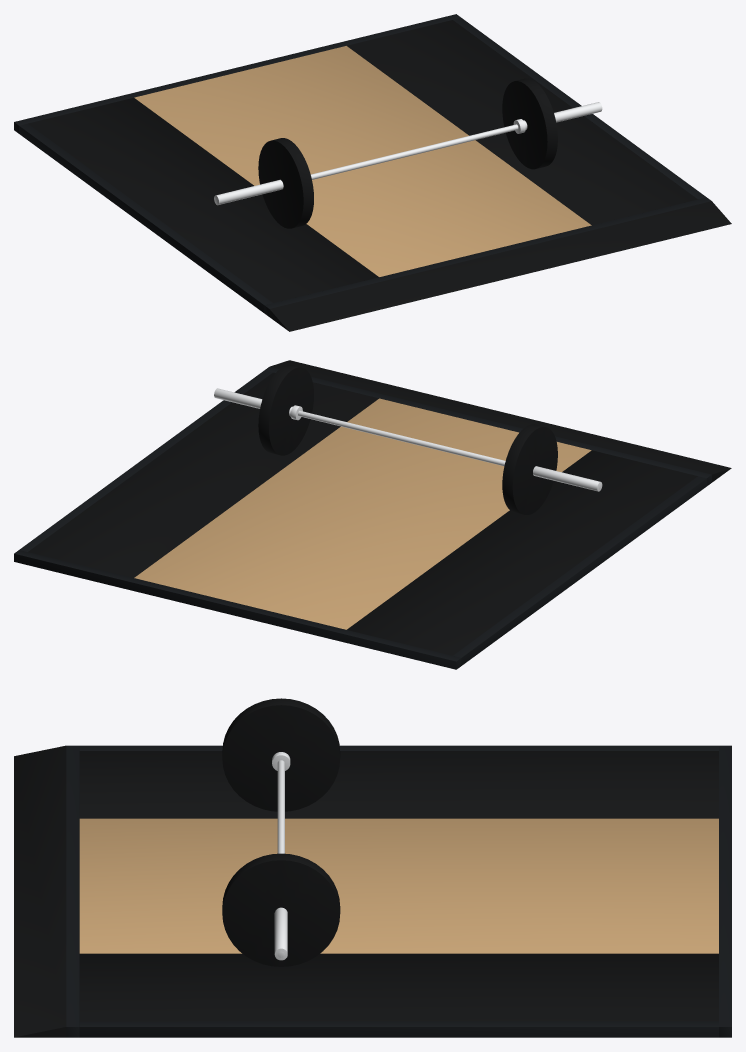
The picture shows the model from 3 angles, top to bottom: view 1: azimuth 30°, elevation 25°; view 2: azimuth 150°, elevation 25°; view 3: azimuth 270°, elevation 25°; orthographic projection. The views are drawn at different scales.
Visible parts, largest first — view 1: wood.002, rubber, rubber.001, rubber.002, frame.002, rubber.004, rubber.003, frame, frame.001, frame.003, chrome, chrome.001 (+1 smaller); view 2: wood.002, rubber, rubber.001, frame.001, rubber.002, frame.002, rubber.004, rubber.003, frame.003, frame, chrome, chrome.001 (+1 smaller); view 3: wood.002, rubber.001, rubber, rubber.002, frame.003, rubber.003, rubber.004, frame, frame.001, frame.002, chrome, chrome.003.
Boxes of the visible parts, box(x1,y1,x2,y2) form: wood.002: box(134, 46, 591, 276); rubber: box(28, 97, 378, 302); rubber.001: box(347, 20, 697, 225); rubber.002: box(269, 201, 731, 331); frame.002: box(19, 123, 272, 312); rubber.004: box(502, 78, 557, 169); rubber.003: box(258, 138, 313, 228); frame: box(264, 197, 711, 316); frame.001: box(14, 14, 460, 133); frame.003: box(453, 17, 706, 199); chrome: box(215, 124, 518, 202); chrome.001: box(214, 179, 283, 205); wood.002: box(134, 398, 591, 629); rubber: box(347, 450, 697, 655); rubber.001: box(28, 372, 378, 577); frame.001: box(14, 550, 461, 669); rubber.002: box(270, 360, 731, 482); frame.002: box(453, 476, 706, 665); rubber.004: box(258, 365, 313, 455); rubber.003: box(502, 424, 557, 514); frame.003: box(19, 370, 272, 551); frame: box(265, 366, 711, 485); chrome: box(298, 410, 600, 489); chrome.001: box(533, 466, 602, 491); wood.002: box(79, 818, 718, 953); rubber.001: box(79, 953, 718, 1021); rubber: box(79, 751, 718, 818); rubber.002: box(14, 745, 66, 1037); frame.003: box(79, 1021, 718, 1037); rubber.003: box(222, 698, 340, 811); rubber.004: box(222, 853, 340, 966); frame: box(66, 745, 79, 1037); frame.001: box(719, 745, 731, 1037); frame.002: box(79, 745, 718, 750); chrome: box(277, 760, 284, 957); chrome.003: box(274, 907, 287, 960).
Size of the model in its own units: 2.54 by 0.495 by 2.74.
